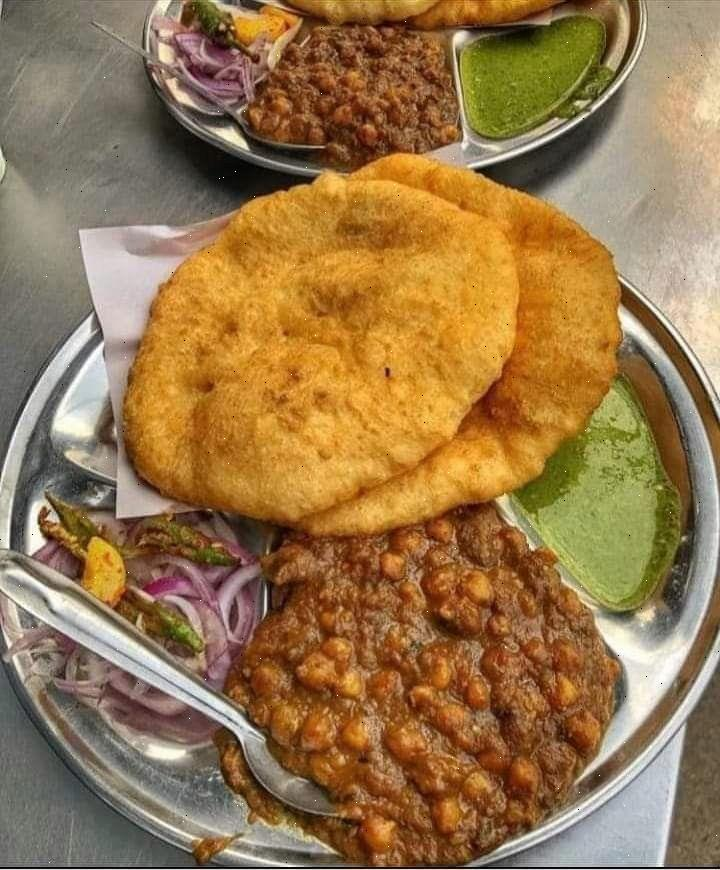chole: (278, 539, 605, 815), (288, 29, 439, 156)
puri: (122, 213, 625, 506)
salad: (42, 507, 257, 730), (154, 0, 281, 148)
